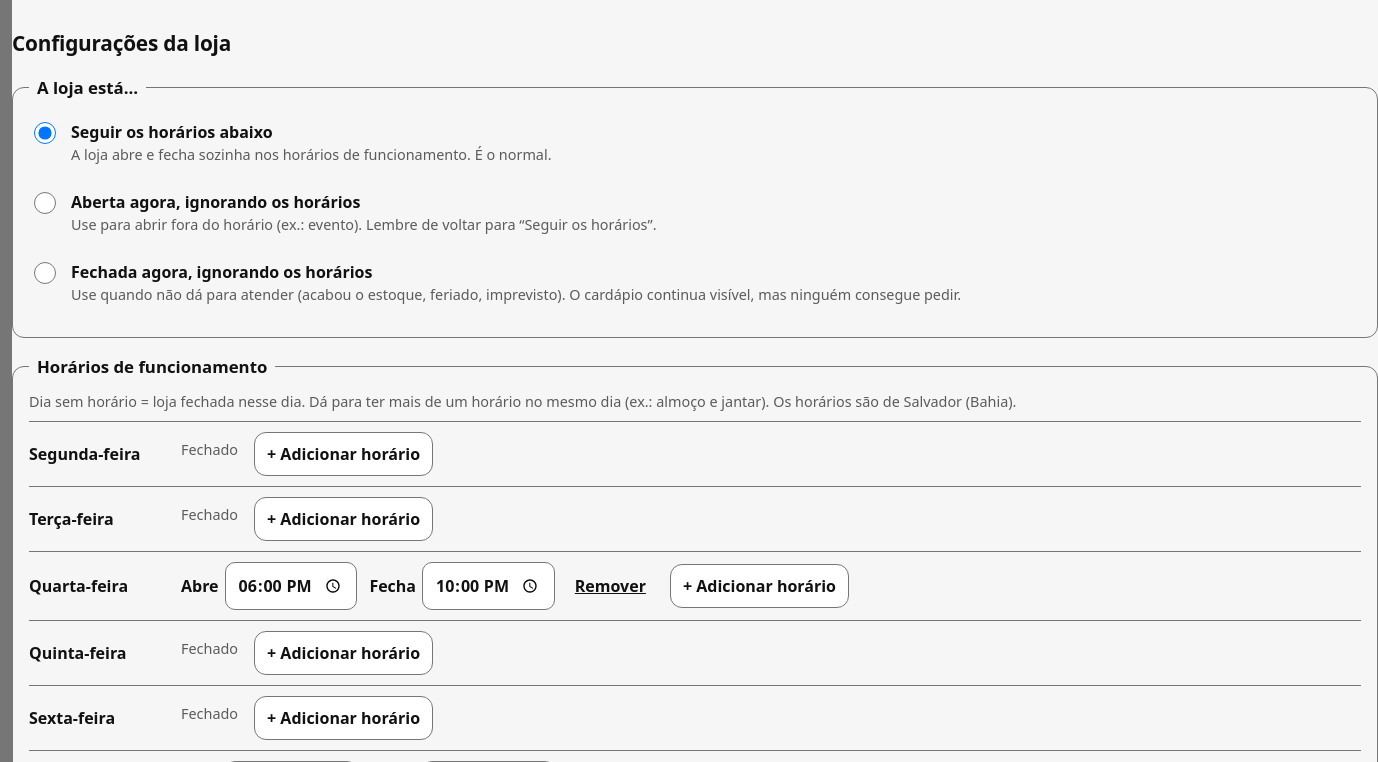
Test: Admin: configurações da loja › dois horários no mesmo dia (almoço e jantar)
The image size is (1378, 762).
Click the button with aria-label "Adicionar horário em Quarta-feira": (760, 586) [670,564,849,608]
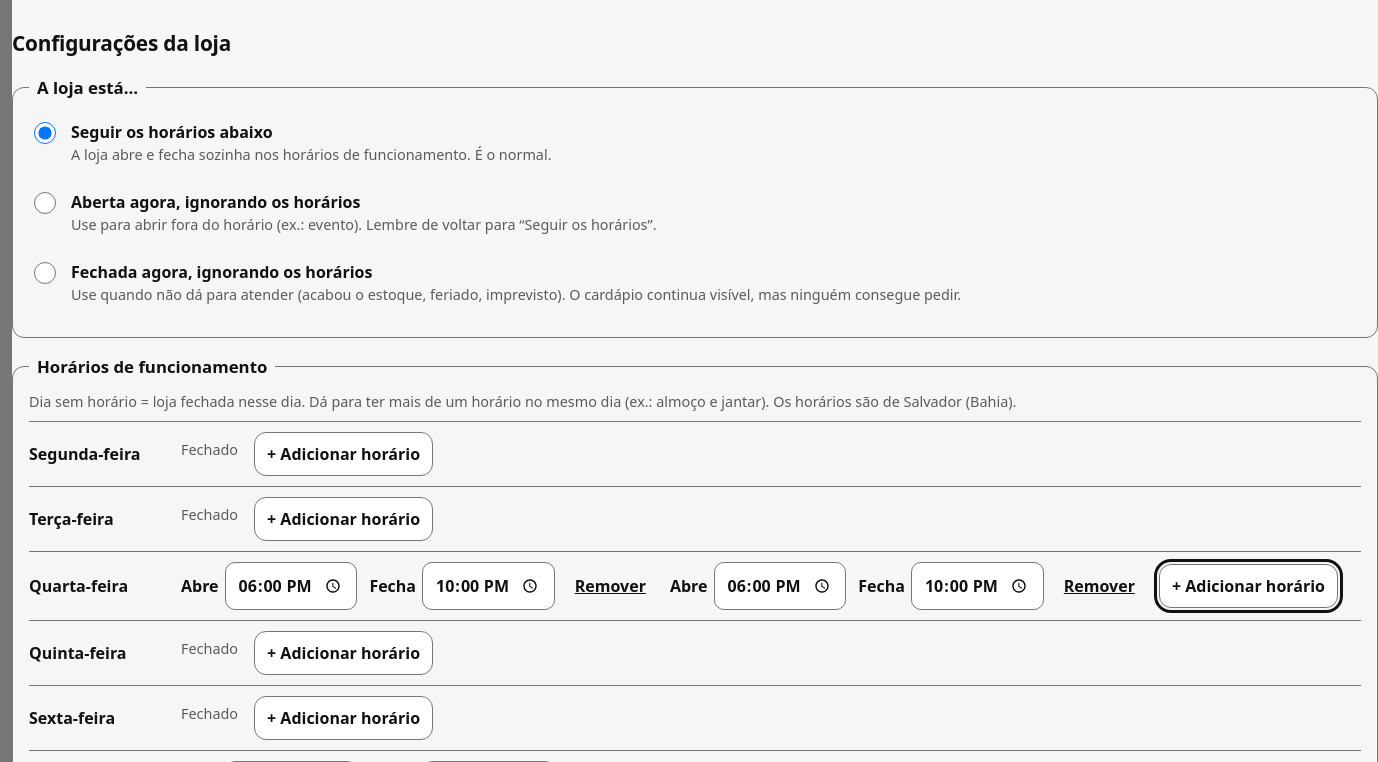
Expected: the number of time fields named "Quarta-feira: abre às" is 2, [225,562,357,610]; [714,562,846,610]
